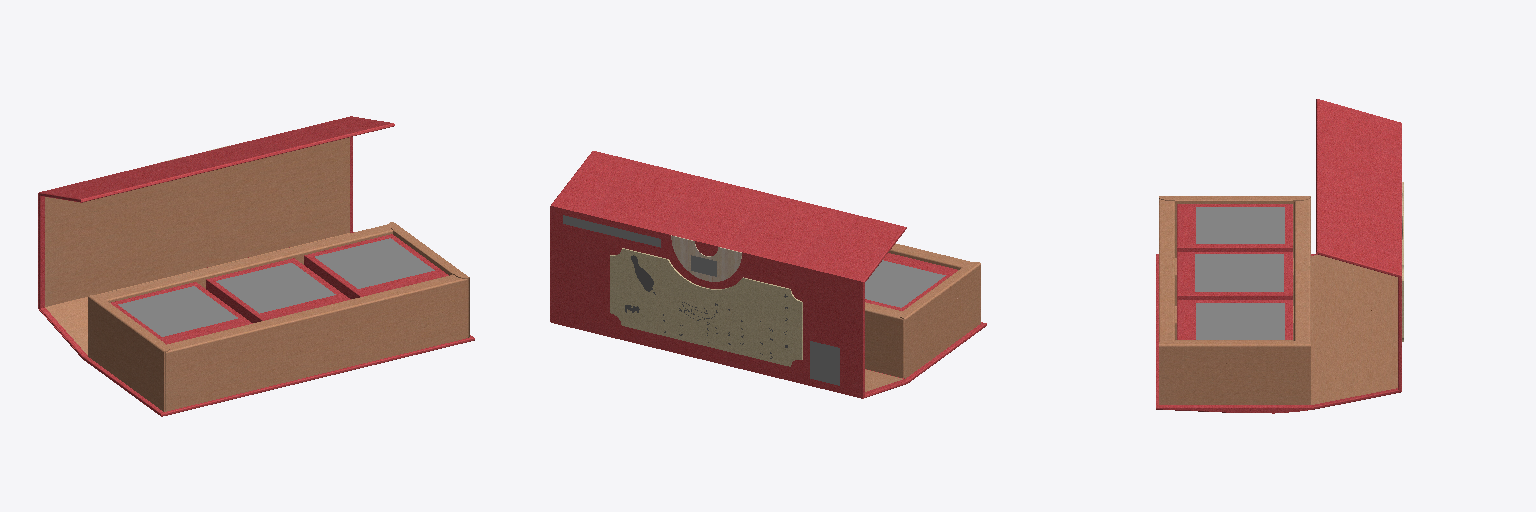
3 views of the same model, side by side, from view 1: azimuth 30°, elevation 25°; view 2: azimuth 150°, elevation 25°; view 3: azimuth 270°, elevation 25° (orthographic).
Parts seen in each view (by area): view 1: DirectConnectNode_37_DC_Shell, Rectangle006, Plane005, Plane008, Plane007, Rectangle005; view 2: DirectConnectNode_37_DC_Shell, Plane005, Rectangle001, Rectangle002, Plane001; view 3: DirectConnectNode_37_DC_Shell, Rectangle005, Plane007, Plane005, Plane008.
Boxes of the visible parts, box(x1,y1,x2,y2) form: DirectConnectNode_37_DC_Shell: box(38, 116, 474, 416); Rectangle006: box(45, 137, 349, 306); Plane005: box(118, 286, 237, 336); Plane008: box(315, 238, 434, 288); Plane007: box(216, 263, 335, 313); Rectangle005: box(45, 233, 349, 354); DirectConnectNode_37_DC_Shell: box(550, 151, 986, 398); Plane005: box(865, 260, 945, 307); Rectangle001: box(810, 341, 839, 385); Rectangle002: box(563, 215, 660, 247); Plane001: box(625, 255, 787, 358); DirectConnectNode_37_DC_Shell: box(1156, 99, 1403, 413); Rectangle005: box(1311, 255, 1397, 404); Plane007: box(1195, 254, 1283, 291); Plane005: box(1196, 207, 1284, 243); Plane008: box(1196, 303, 1284, 339).
Bounding box in the file's own units: 421 × 208 × 289.
Materials: 11 (5 with a texture image).